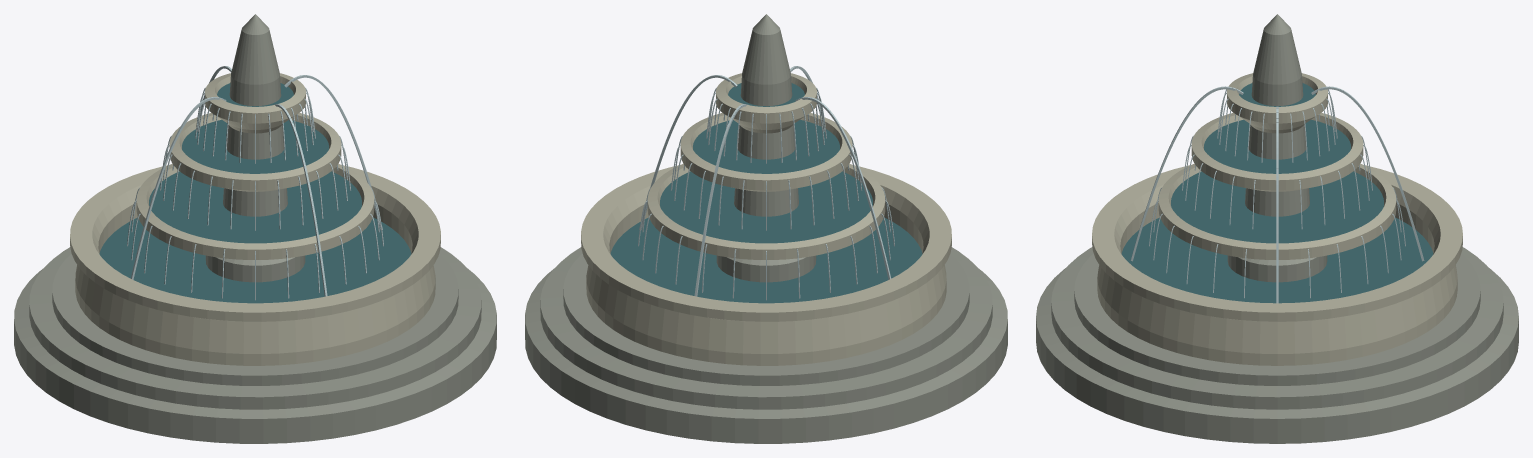
File: square_fountain.glb
3 renders of one model, left to right at view 1: azimuth 30°, elevation 25°; view 2: azimuth 150°, elevation 25°; view 3: azimuth 270°, elevation 25°, orthographic.
Parts seen in each view (by area): view 1: square_fountain; view 2: square_fountain; view 3: square_fountain.
Part boxes in pixels (x1,y1,x2,y2): square_fountain: [14, 14, 496, 443]; square_fountain: [525, 14, 1007, 443]; square_fountain: [1036, 14, 1518, 443].
Size of the model in its own units: 6.3 by 4.72 by 6.3.
